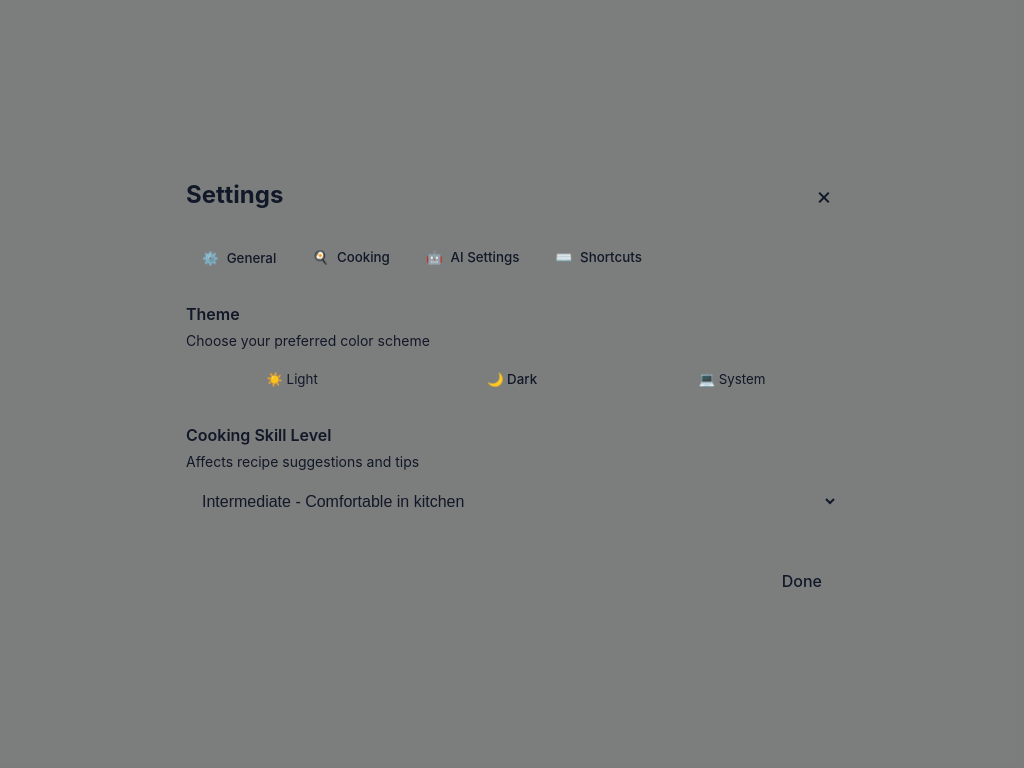
Scenario: GeneralSettings › lets a new endpoint be typed and saves it once valid
Click the button "🤖 AI Settings" at (473, 258), box x1=410 y1=237 x2=535 y2=279
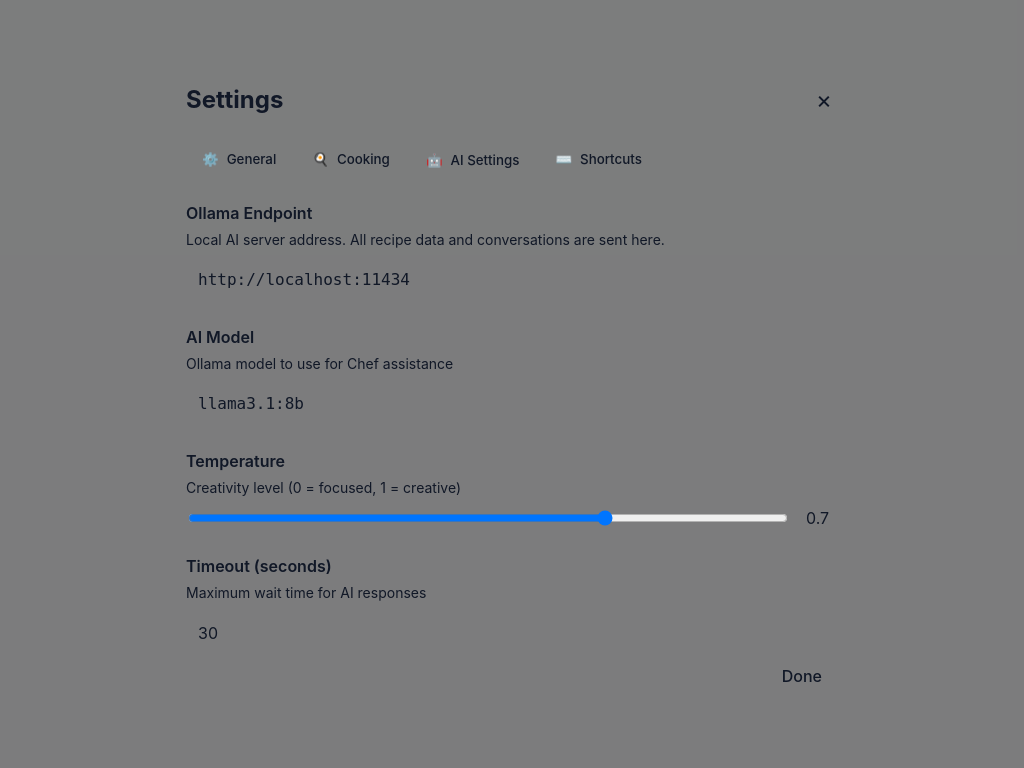
Type "http:/" into the field named "Ollama endpoint" at (512, 280), box x1=186 y1=258 x2=838 y2=301
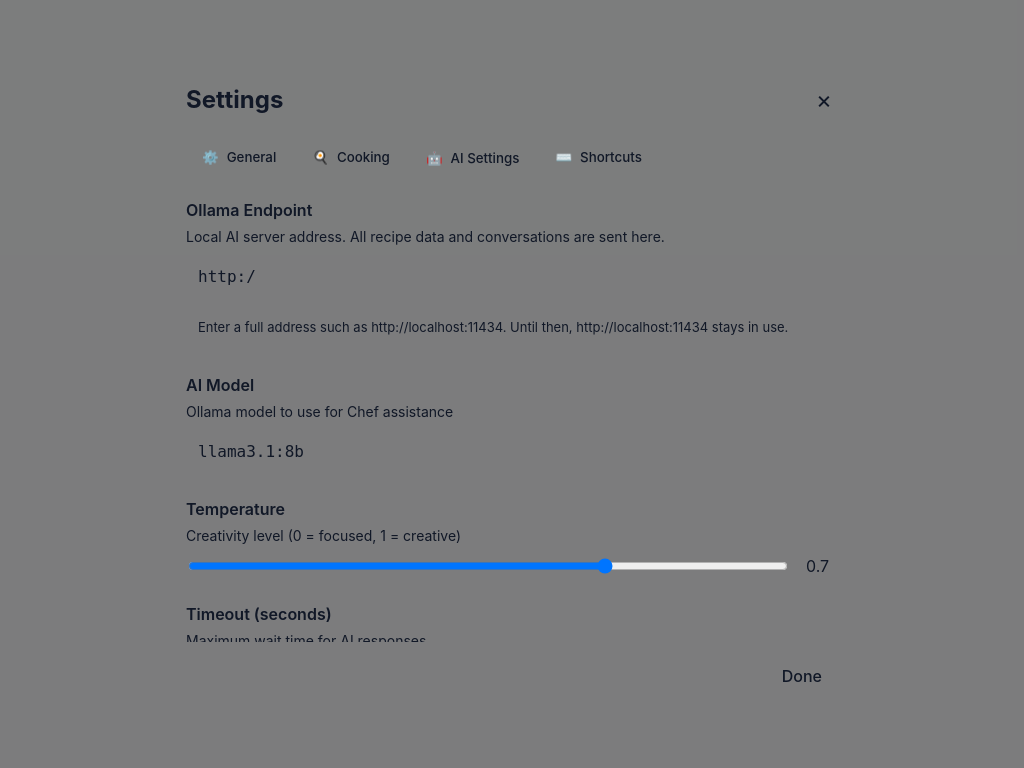
Expected: the message shows "Enter a full address such as http://localhost:11434", x1=198 y1=319 x2=788 y2=335
Replace the text in the field named "Ollama endpoint" with "http://127.0.0.1:11500/" at (512, 276), box x1=186 y1=255 x2=838 y2=298
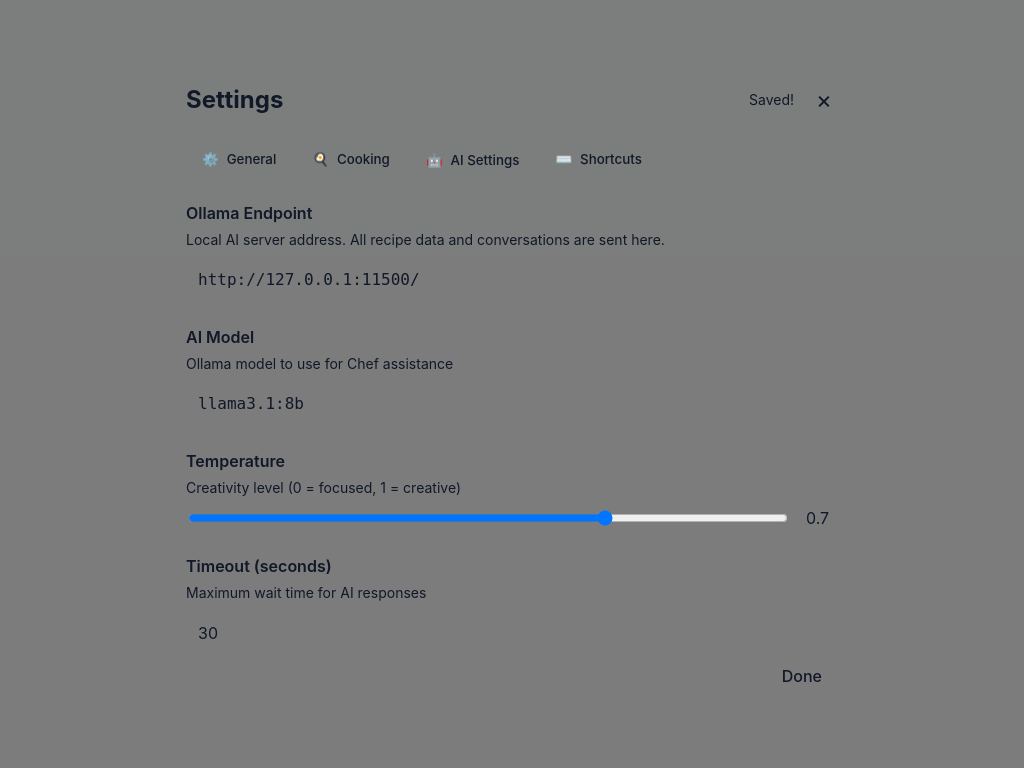
Expected: the message is gone
